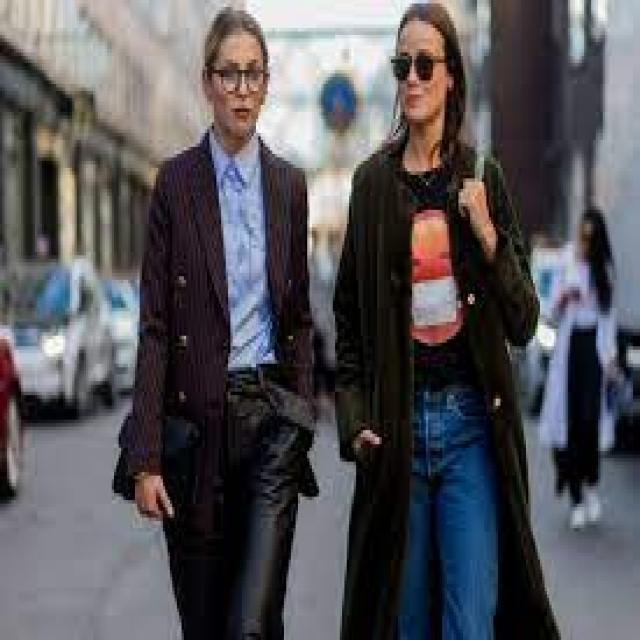Jacket: (123, 130, 320, 529), (336, 144, 530, 511)
